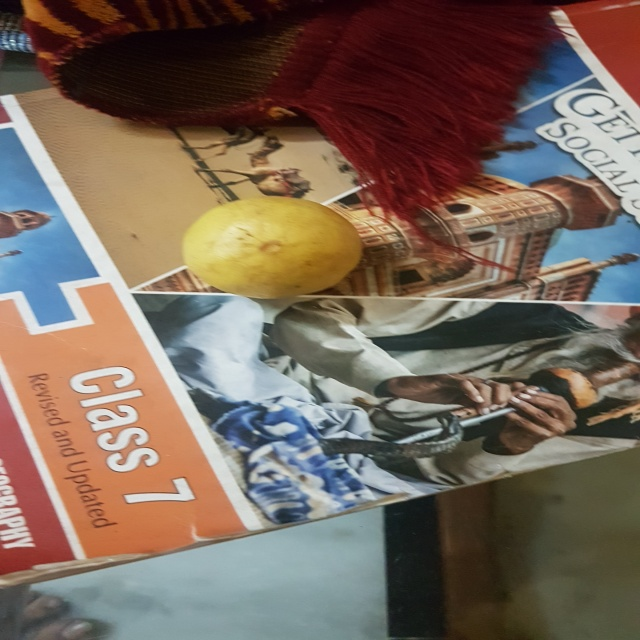lemon: (180, 190, 367, 304)
